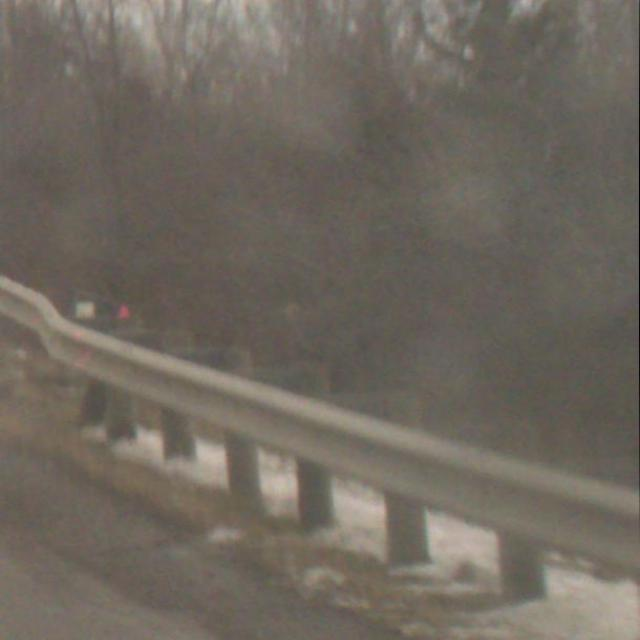Guard rail: (0, 267, 639, 613)
